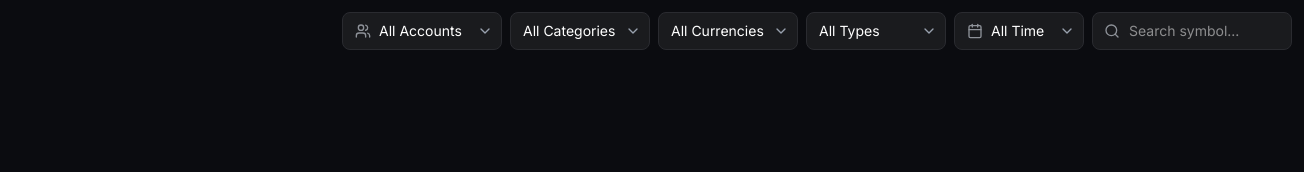
Test: Bybit transaction components (components/transactions/BybitTransactions) › BybitTransactionFilters › propagates the typed search term through setFilters
Type "BTC" into the field with placeholder "Search symbol..." at (1192, 31), box [1092,12,1292,50]
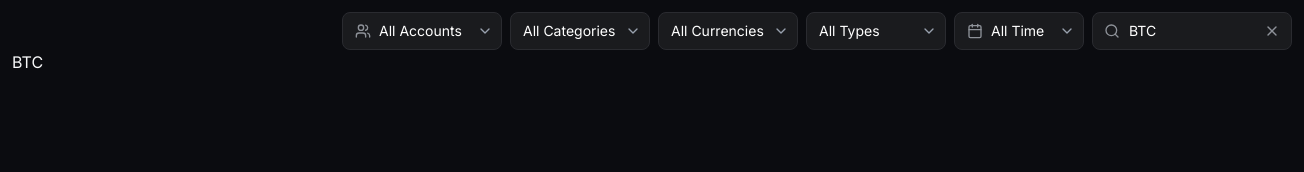
Expected: the text with test id "filters-search" reads "BTC", [12,52,43,72]
